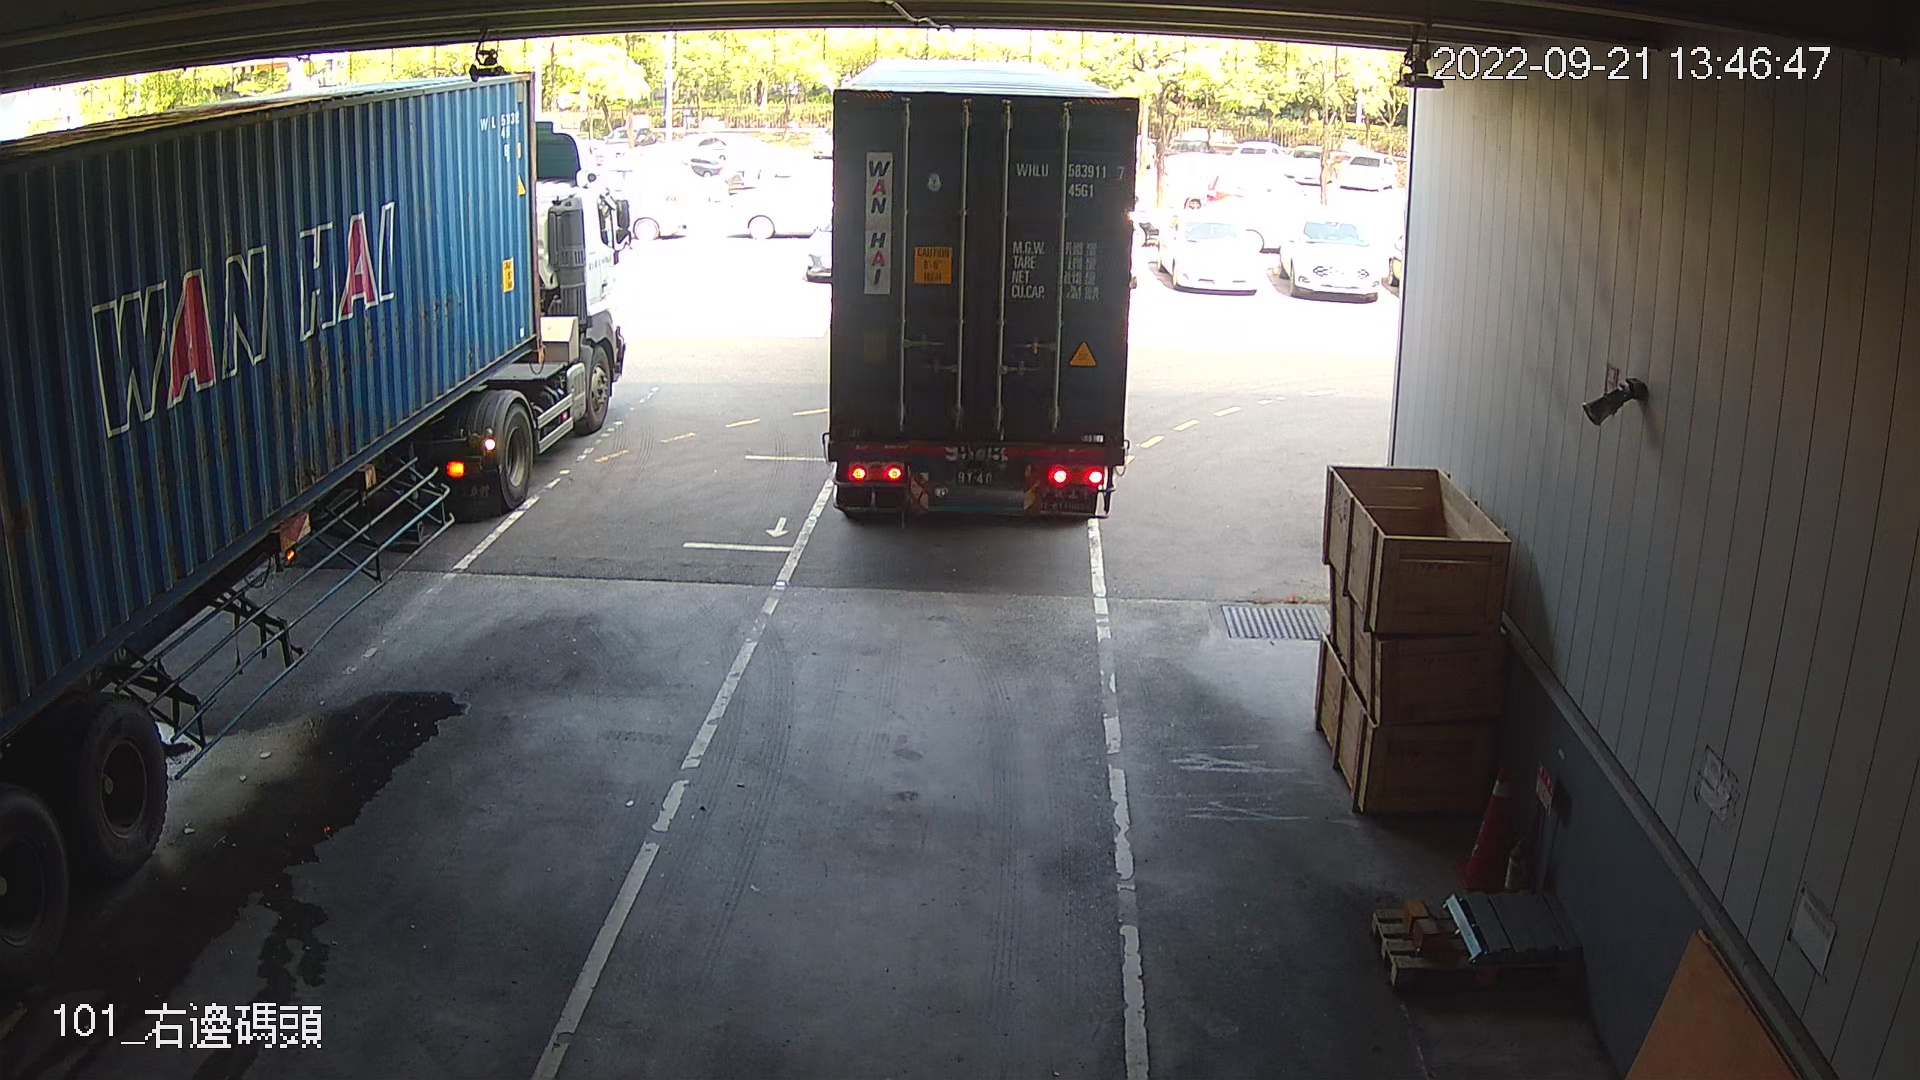container: (1010, 156, 1131, 202)
